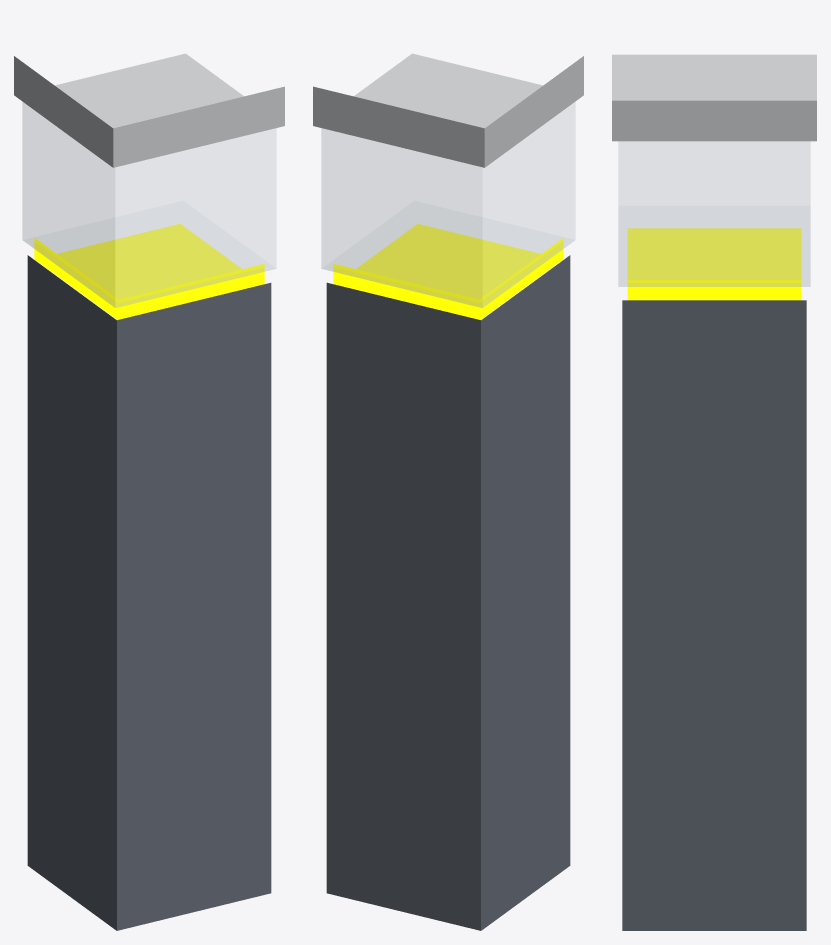
The model's file is ext_bollard_light_02.glb.
3 renders of one model, left to right at view 1: azimuth 30°, elevation 25°; view 2: azimuth 150°, elevation 25°; view 3: azimuth 270°, elevation 25°, orthographic. The views are drawn at different scales.
Parts seen in each view (by area): view 1: Post, Glass_Box, Cap, Lamp_Plate; view 2: Post, Glass_Box, Cap, Lamp_Plate; view 3: Post, Glass_Box, Cap, Lamp_Plate.
Boxes of the visible parts, x1,y1,x2,y2 form: Post: (27, 255, 271, 930); Glass_Box: (22, 102, 276, 307); Cap: (14, 53, 284, 167); Lamp_Plate: (34, 224, 264, 319); Post: (326, 255, 570, 930); Glass_Box: (321, 102, 575, 307); Cap: (313, 53, 583, 167); Lamp_Plate: (333, 224, 563, 319); Post: (622, 300, 806, 930); Glass_Box: (618, 141, 810, 286); Cap: (612, 54, 816, 141); Lamp_Plate: (627, 228, 801, 300).
Bounding box in the file's own units: 0.2 × 0.9 × 0.2.
